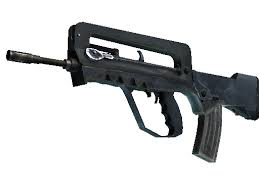gun: (4, 21, 257, 165)
